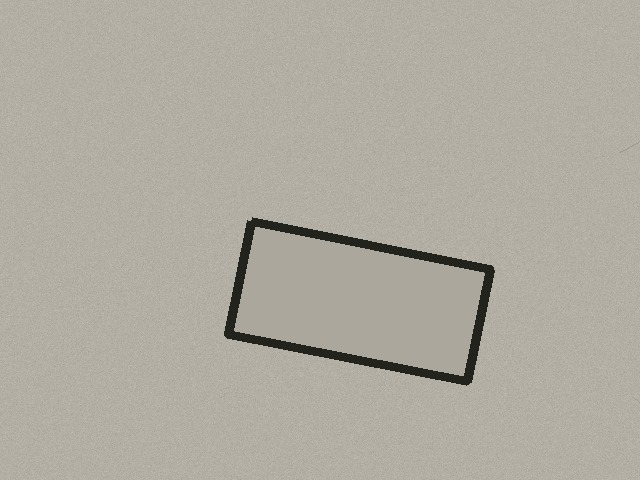parking_area: (228, 221, 490, 381)
